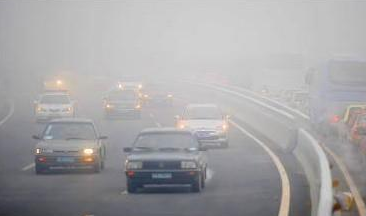bus: (306, 56, 366, 136)
car: (122, 131, 208, 196), (31, 119, 108, 175), (173, 104, 231, 148), (33, 93, 76, 126), (102, 88, 142, 118), (335, 104, 366, 139), (138, 84, 174, 107), (347, 112, 366, 145), (115, 76, 145, 95), (290, 91, 312, 109), (354, 136, 366, 166)
